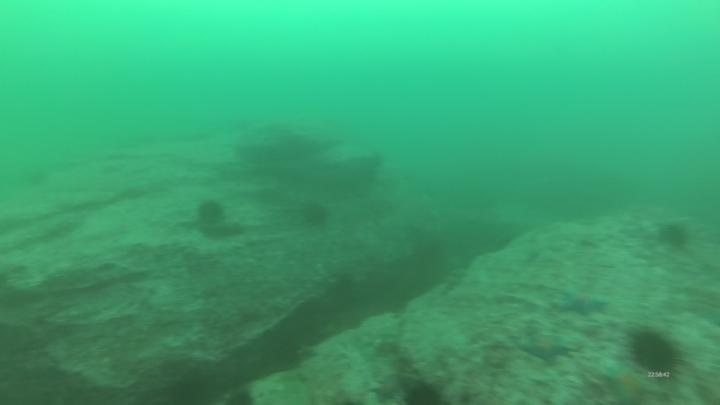echinus: (626, 325, 685, 378), (655, 218, 693, 252), (193, 196, 229, 229), (402, 378, 445, 405), (298, 198, 333, 230)
starfish: (598, 359, 664, 405), (555, 284, 612, 319), (518, 331, 575, 366), (368, 373, 407, 403)
